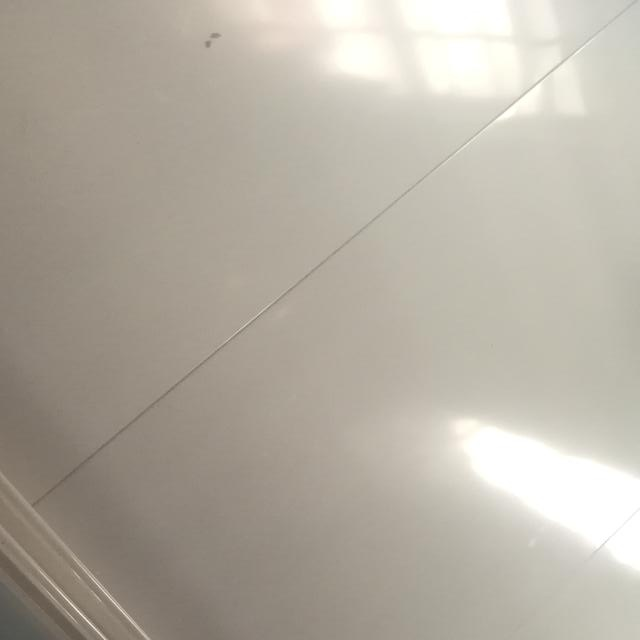fluorescent tube: (0, 369, 388, 640)
